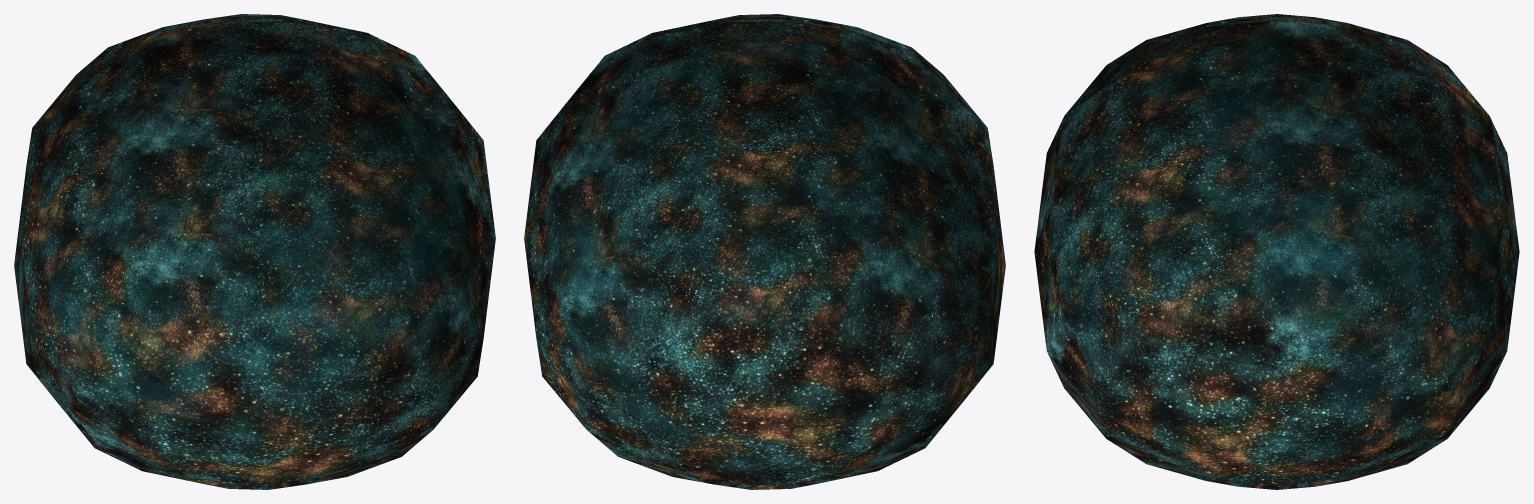
The model's file is NPSpaceSky.gltf.
The picture shows the model from 3 angles, left to right: view 1: azimuth 30°, elevation 25°; view 2: azimuth 150°, elevation 25°; view 3: azimuth 270°, elevation 25°; orthographic projection.
Parts seen in each view (by area): view 1: SpaceSky, SpaceSkyBlend, SpaceFog2, SpaceFog; view 2: SpaceSky, SpaceSkyBlend, SpaceFog, SpaceFog2; view 3: SpaceSky, SpaceSkyBlend, SpaceFog2, SpaceFog.
Part boxes in pixels (bbox=[...]): SpaceSky: bbox=[14, 14, 495, 489]; SpaceSkyBlend: bbox=[56, 18, 453, 485]; SpaceFog2: bbox=[43, 67, 468, 443]; SpaceFog: bbox=[36, 69, 471, 369]; SpaceSky: bbox=[524, 14, 1005, 489]; SpaceSkyBlend: bbox=[566, 18, 963, 485]; SpaceFog: bbox=[546, 80, 981, 375]; SpaceFog2: bbox=[554, 41, 928, 462]; SpaceSky: bbox=[1034, 14, 1519, 489]; SpaceSkyBlend: bbox=[1077, 18, 1476, 485]; SpaceFog2: bbox=[1110, 38, 1465, 464]; SpaceFog: bbox=[1054, 78, 1499, 375].
Size of the model in its own units: 4625 by 4400 by 4625.
Materials: 3 (3 with a texture image).
